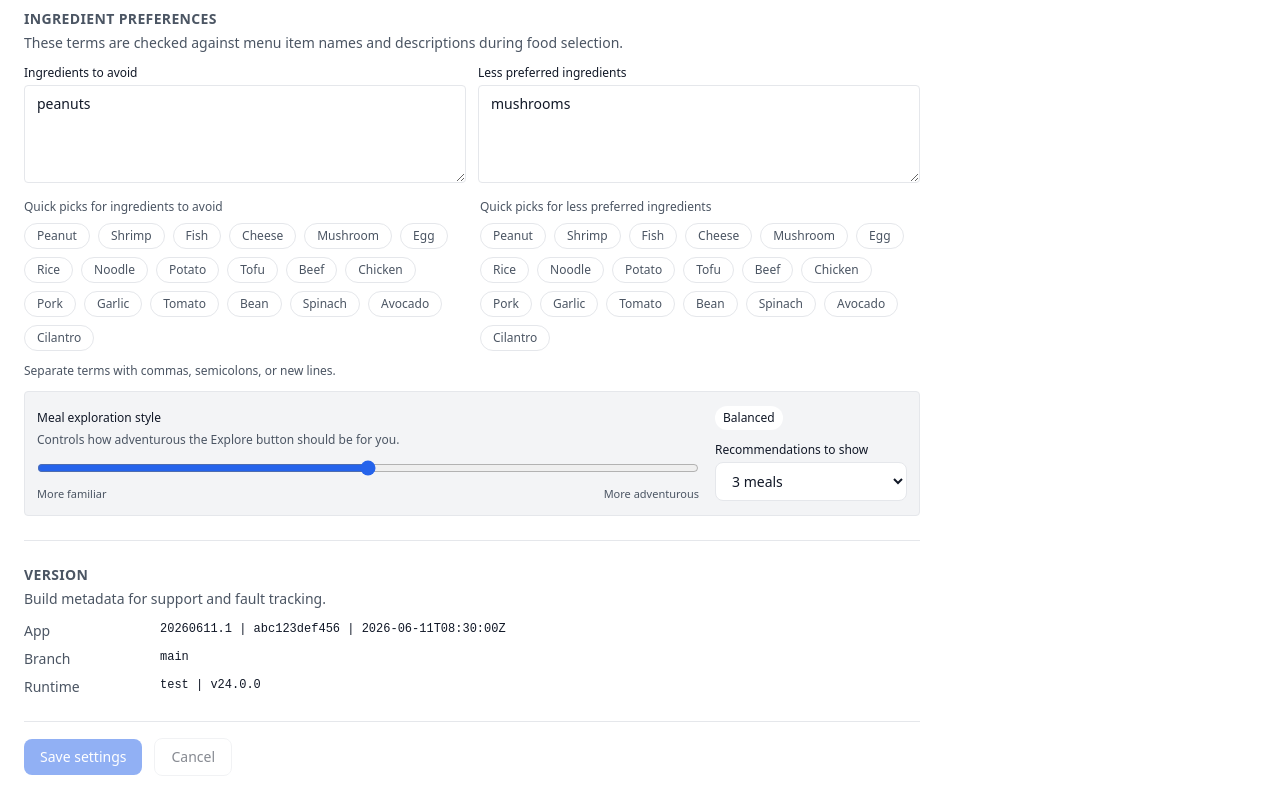
Settings › saves a personal recommendation count from the settings page
(page scrolled)
Select "5 meals" in the dropdown labelled "Recommendations to show" at (811, 482), box [715, 462, 907, 501]
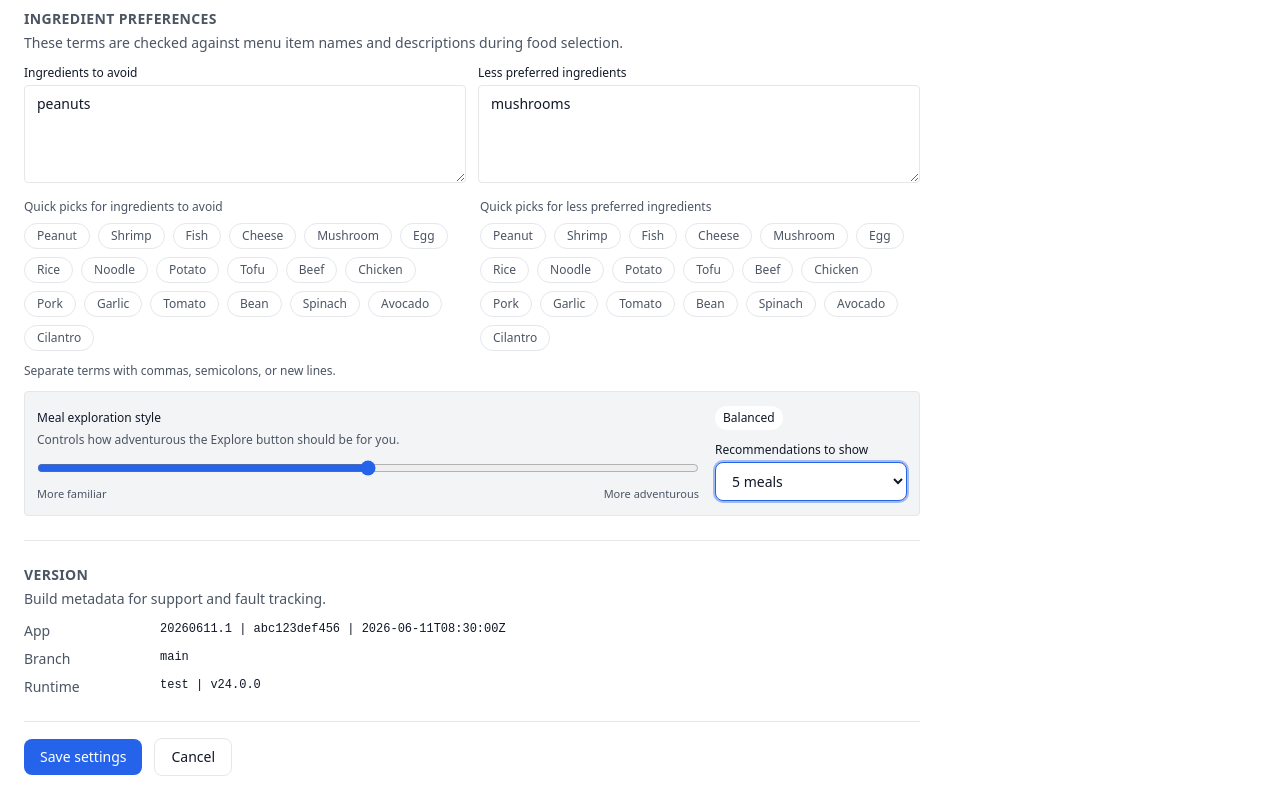
Click the button "Save settings" at (83, 756), box [24, 738, 142, 774]
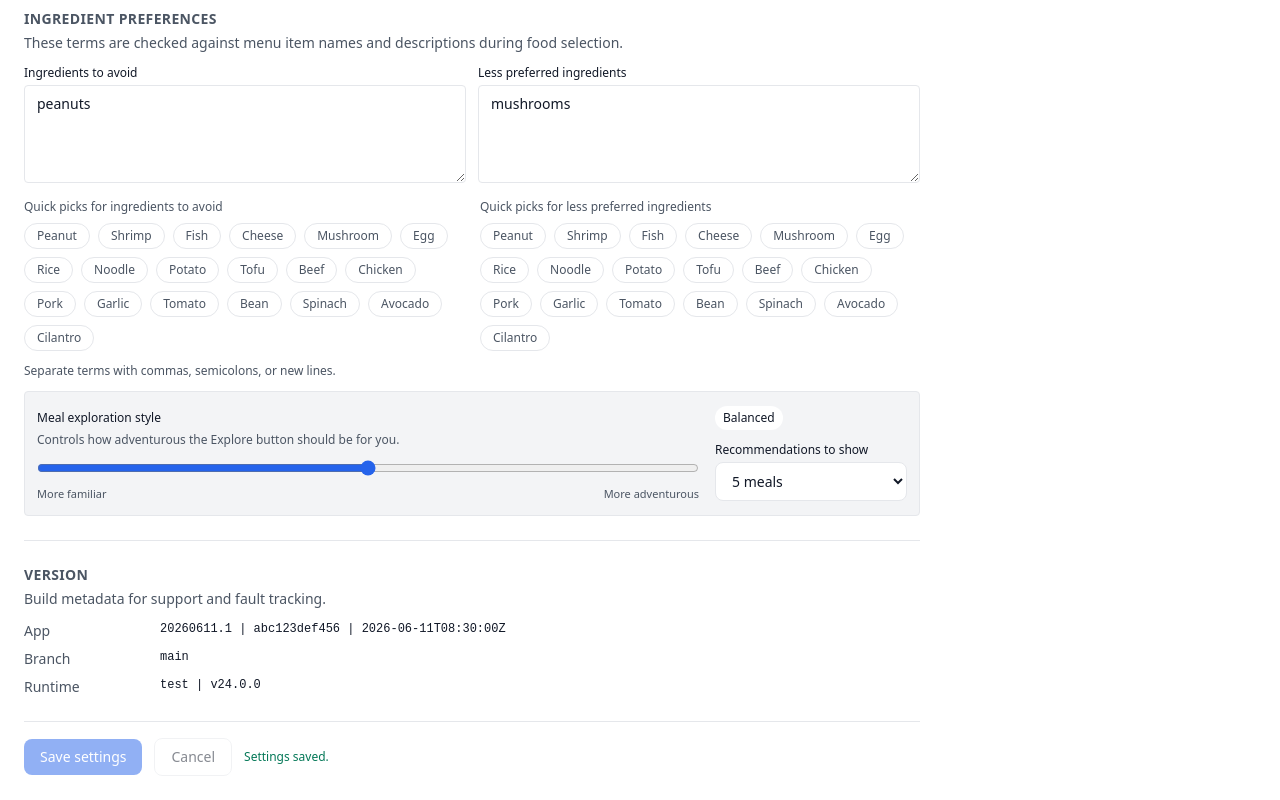
Result: the text "Settings saved." is shown at [244, 748, 329, 764]
